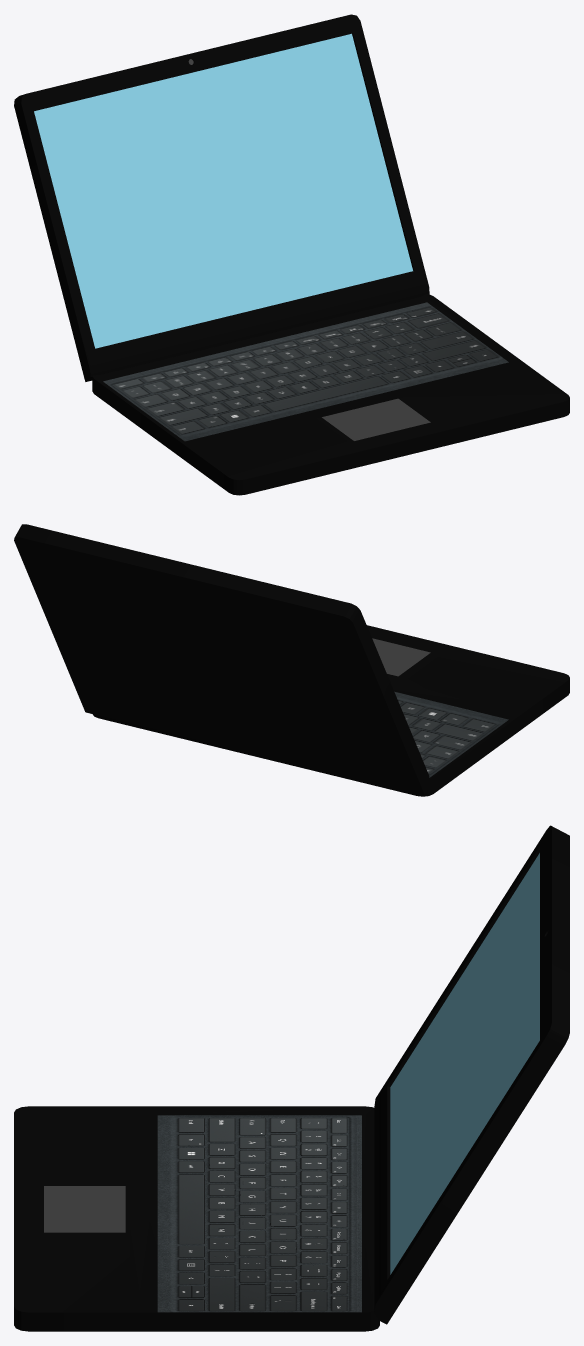
Rendered from laptok.fbx.
3 renders of one model, top to bottom at view 1: azimuth 30°, elevation 25°; view 2: azimuth 150°, elevation 25°; view 3: azimuth 270°, elevation 25°, orthographic. The views are drawn at different scales.
Parts seen in each view (by area): view 1: Cube.001, Cube; view 2: Cube.001, Cube; view 3: Cube, Cube.001.
Part boxes in pixels (left/top/right/bottom): Cube.001: left=14, top=14, right=429, bottom=381; Cube: left=92, top=294, right=569, bottom=495; Cube.001: left=14, top=524, right=429, bottom=794; Cube: left=92, top=625, right=569, bottom=796; Cube: left=14, top=1106, right=379, bottom=1331; Cube.001: left=374, top=825, right=569, bottom=1324.
Size of the model in its own units: 200 by 137 by 228.
